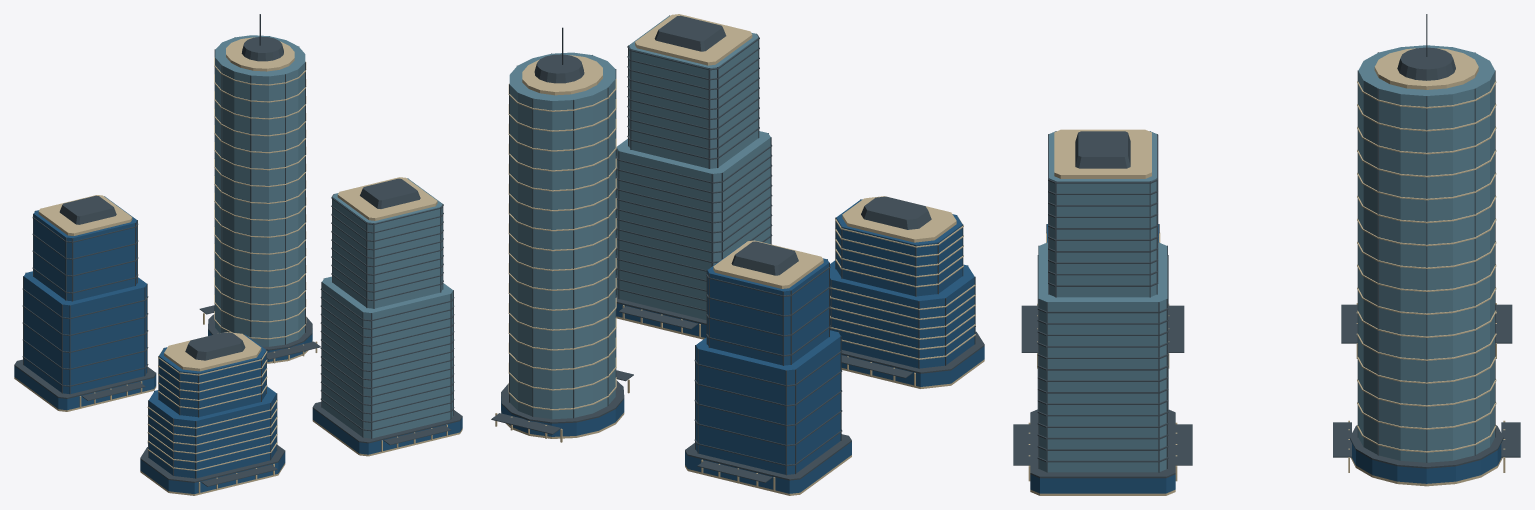
Rendered from CityBlock0.dae.
3 renders of one model, left to right at view 1: azimuth 30°, elevation 25°; view 2: azimuth 150°, elevation 25°; view 3: azimuth 270°, elevation 25°, orthographic. The views are drawn at different scales.
Visible parts, largest first — view 1: silverglass, glass, slate, limestone; view 2: silverglass, glass, slate, limestone; view 3: silverglass, slate, limestone, glass.
Boxes of the visible parts, box(x1,y1,x2,y2) form: silverglass: box(215, 35, 452, 438); glass: box(14, 196, 462, 493); slate: box(14, 36, 462, 486); limestone: box(14, 37, 462, 495); silverglass: box(509, 15, 770, 419); glass: box(501, 199, 984, 493); slate: box(491, 15, 984, 482); limestone: box(495, 14, 984, 495); silverglass: box(1038, 45, 1494, 472); slate: box(1013, 47, 1520, 478); limestone: box(1028, 48, 1505, 495); glass: box(1030, 224, 1503, 493).
Bounding box in the file's own units: 108 × 118 × 122.
